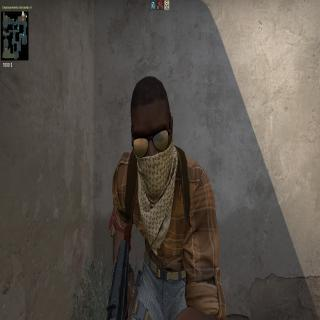T-Head: (127, 70, 181, 202)
